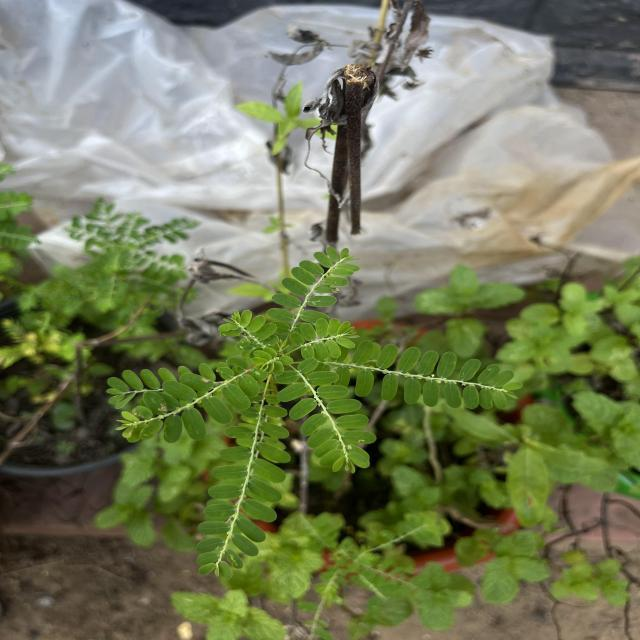Phyllanthus niruri: (192, 390, 292, 579), (329, 338, 523, 412), (270, 358, 376, 474), (114, 361, 260, 445), (262, 244, 362, 328), (288, 316, 360, 364), (214, 308, 280, 354)
